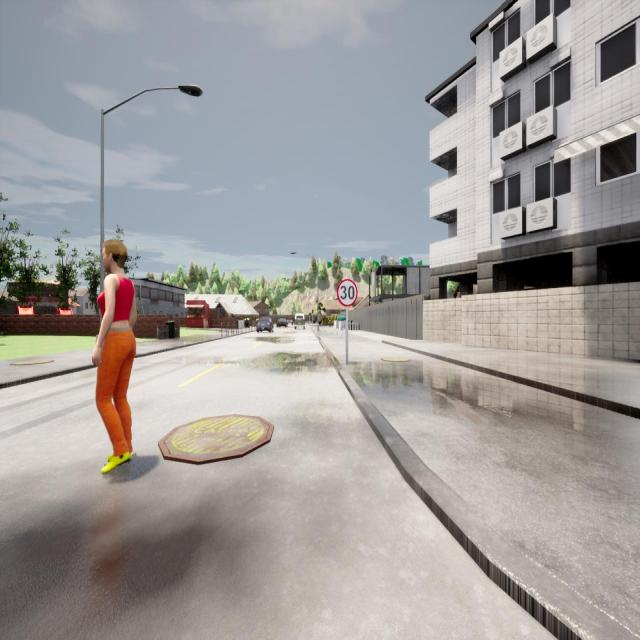Pedestrian: (92, 239, 137, 473)
Traffic_Signs: (337, 279, 358, 307)
Vehicle: (256, 316, 274, 333), (294, 313, 306, 330), (276, 317, 288, 328), (288, 318, 293, 326)
traffic_light: (312, 307, 313, 314)
